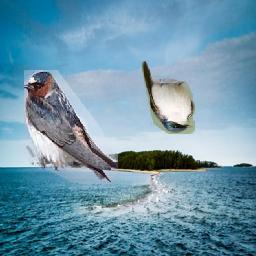Swallow: (24, 70, 118, 184), (143, 62, 196, 135)
